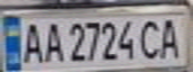2: (63, 18, 87, 63), (100, 17, 121, 61)
4: (115, 17, 139, 61)
7: (81, 18, 103, 62)
A: (157, 15, 187, 60), (39, 19, 66, 65), (18, 19, 45, 64)
C: (136, 16, 163, 61)
